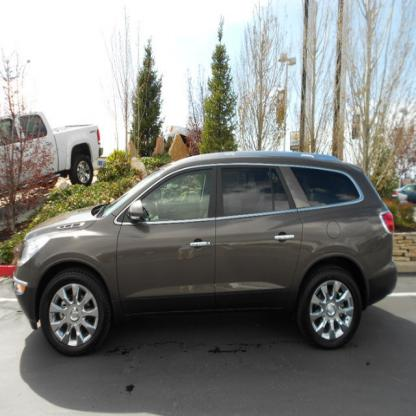Vehicle: (8, 147, 398, 358)
